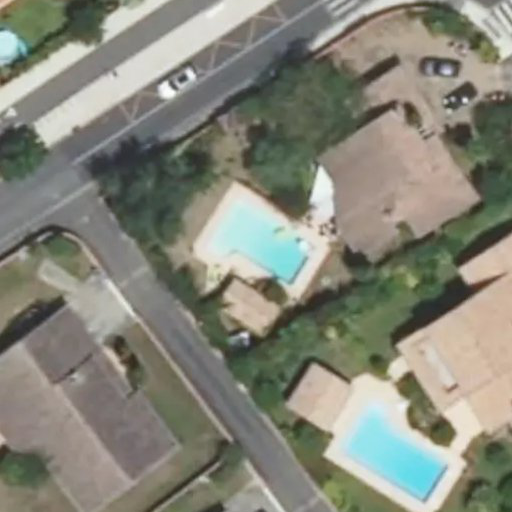pool: (209, 236, 302, 247)
